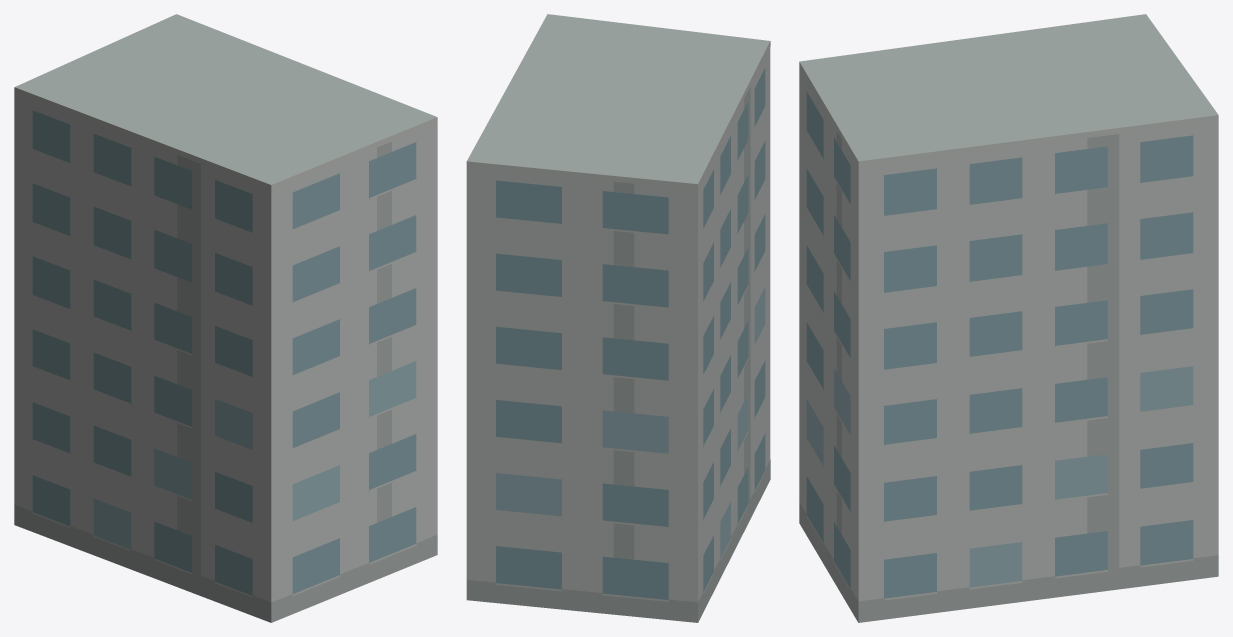
File: survey-upis-32743062.glb
3 renders of one model, left to right at view 1: azimuth 30°, elevation 25°; view 2: azimuth 150°, elevation 25°; view 3: azimuth 270°, elevation 25°, orthographic. The views are drawn at different scales.
Parts seen in each view (by area): view 1: survey-upis-32743062.tmp; view 2: survey-upis-32743062.tmp; view 3: survey-upis-32743062.tmp.
Boxes of the visible parts, <box> form: survey-upis-32743062.tmp: <box>14,14,437,622</box>; survey-upis-32743062.tmp: <box>466,14,770,622</box>; survey-upis-32743062.tmp: <box>799,14,1218,622</box>.
Size of the model in its own units: 12.55 by 18.3 by 15.08.
